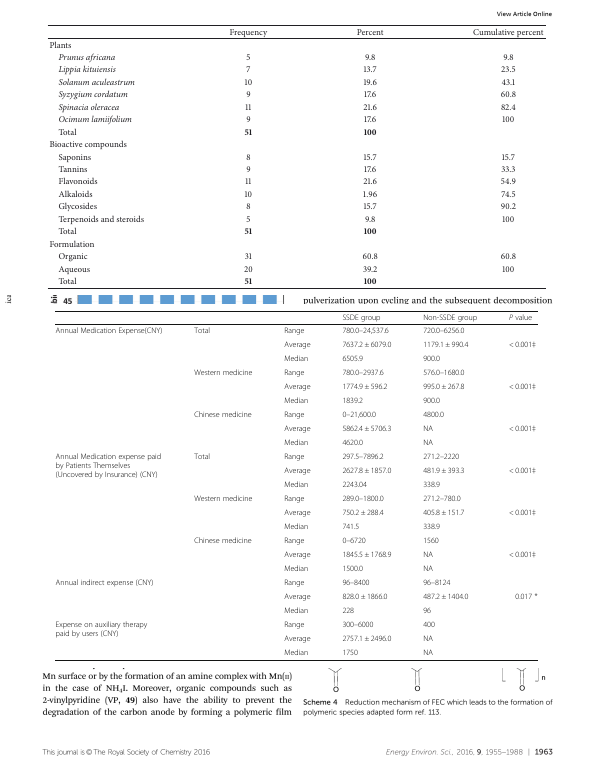borderless: (54, 309, 538, 660), (46, 23, 546, 288)
cell: (55, 452, 162, 480), (55, 620, 148, 639), (55, 326, 163, 336), (55, 578, 154, 588), (57, 214, 145, 225), (48, 139, 128, 150), (57, 77, 136, 88), (57, 114, 133, 125), (472, 27, 545, 38), (57, 90, 129, 100), (57, 102, 120, 113), (57, 52, 116, 63), (193, 368, 253, 378), (193, 494, 253, 504), (57, 65, 117, 75), (193, 410, 252, 420), (193, 536, 252, 546), (48, 239, 95, 250), (341, 340, 392, 350), (341, 424, 392, 434), (341, 466, 392, 476), (341, 550, 392, 560), (341, 634, 392, 644), (422, 313, 478, 322), (341, 326, 390, 336), (422, 340, 469, 350), (341, 382, 388, 392), (341, 592, 388, 602), (422, 592, 469, 602), (341, 508, 385, 518), (422, 326, 465, 336), (341, 368, 384, 378), (422, 368, 465, 378), (422, 382, 465, 392), (341, 452, 384, 462), (422, 466, 465, 476), (341, 494, 384, 504), (422, 508, 465, 518), (229, 27, 268, 38), (57, 177, 99, 187), (57, 202, 98, 212), (57, 189, 94, 200), (422, 494, 461, 504), (422, 452, 460, 462), (57, 264, 91, 275), (341, 313, 381, 322), (341, 410, 377, 420), (57, 251, 89, 262), (57, 152, 92, 162), (57, 164, 88, 175), (341, 620, 374, 630), (356, 27, 385, 38), (508, 340, 537, 350), (508, 382, 537, 392), (508, 424, 537, 434), (508, 466, 537, 476), (508, 508, 537, 518), (508, 550, 537, 560), (341, 578, 370, 588), (422, 578, 451, 588), (283, 340, 311, 350), (283, 382, 311, 392), (283, 424, 311, 434), (283, 466, 311, 476), (283, 508, 311, 518), (283, 550, 311, 560), (283, 592, 311, 602), (283, 634, 311, 644), (341, 480, 368, 490), (283, 354, 309, 364), (283, 396, 309, 406), (283, 438, 309, 448), (283, 480, 309, 490), (283, 522, 309, 532), (341, 536, 367, 546), (283, 564, 309, 574), (283, 606, 309, 616), (283, 648, 309, 658), (514, 592, 538, 602), (48, 40, 72, 50), (57, 127, 78, 138), (57, 276, 78, 287), (341, 354, 364, 364), (341, 396, 364, 406), (422, 410, 445, 420), (341, 438, 364, 448), (341, 564, 364, 574), (508, 313, 533, 322), (283, 326, 305, 336), (283, 368, 305, 378), (283, 410, 305, 420), (283, 452, 305, 462), (283, 494, 305, 504), (283, 536, 305, 546), (283, 578, 305, 588), (283, 620, 305, 630), (57, 227, 78, 237), (422, 354, 441, 364), (422, 396, 441, 406), (422, 480, 441, 490), (341, 522, 360, 532), (422, 522, 441, 532), (500, 102, 517, 113), (500, 189, 517, 200), (362, 251, 379, 262), (500, 251, 517, 262), (193, 326, 211, 336), (193, 452, 211, 462), (422, 536, 440, 546), (341, 648, 359, 658), (362, 77, 378, 88), (362, 102, 378, 113), (500, 164, 516, 175), (362, 189, 378, 200), (362, 264, 378, 275), (500, 65, 517, 75), (500, 90, 517, 100), (500, 177, 517, 187), (500, 202, 517, 212), (501, 77, 516, 88), (362, 177, 378, 187), (363, 114, 377, 125), (501, 114, 515, 125), (363, 164, 377, 175), (501, 214, 515, 225), (501, 264, 515, 275), (363, 65, 378, 75), (363, 152, 378, 162), (501, 152, 516, 162), (363, 202, 378, 212), (502, 52, 515, 63), (341, 606, 355, 616), (422, 620, 436, 630), (363, 90, 377, 100), (363, 276, 378, 285), (364, 52, 376, 63), (364, 214, 376, 225), (243, 264, 254, 275), (422, 424, 434, 434), (422, 438, 434, 448), (422, 550, 434, 560), (422, 564, 434, 574), (422, 634, 434, 644), (422, 648, 434, 658), (363, 127, 378, 135), (363, 227, 378, 235), (422, 606, 432, 616), (244, 77, 253, 88), (244, 189, 253, 200), (244, 251, 253, 262), (244, 102, 252, 113), (244, 276, 253, 285), (244, 177, 252, 187), (245, 114, 252, 125), (245, 164, 252, 175), (244, 127, 253, 135), (244, 227, 253, 235), (245, 90, 252, 100), (245, 152, 252, 162), (245, 202, 252, 212), (245, 52, 251, 63), (245, 214, 251, 225), (245, 65, 251, 75)
